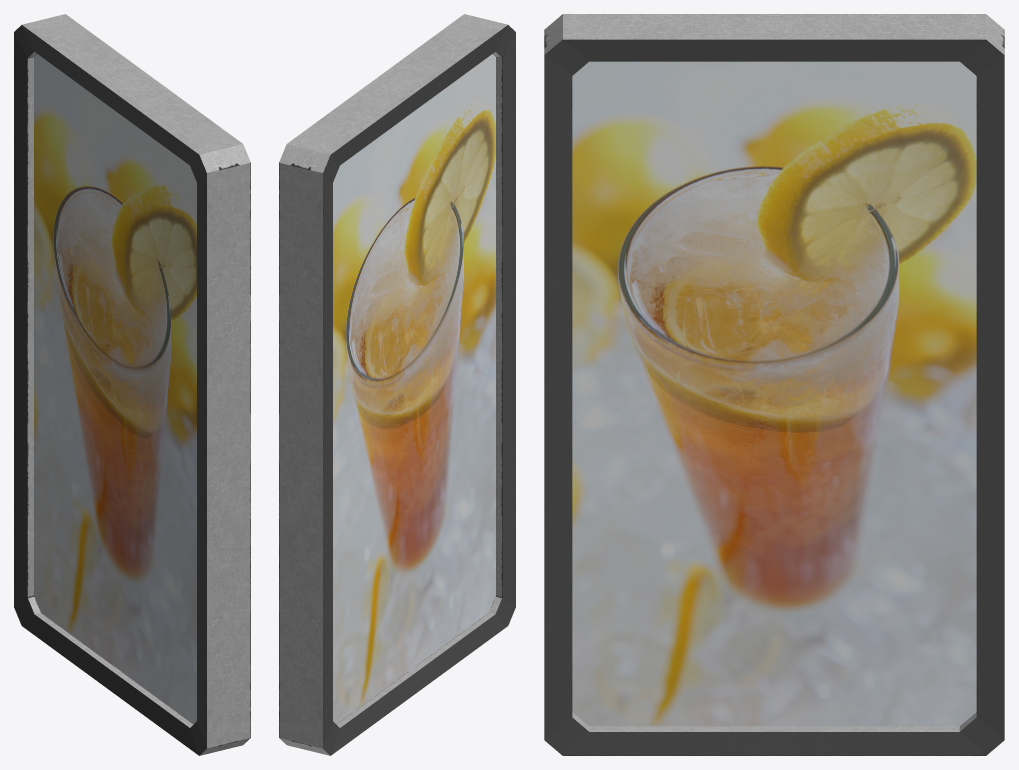
Rendered from Panel03a.FBX.
3 views of the same model, side by side, from view 1: azimuth 30°, elevation 25°; view 2: azimuth 150°, elevation 25°; view 3: azimuth 270°, elevation 25° (orthographic). The views are drawn at different scales.
Visible parts, largest first — view 1: Panel03a; view 2: Panel03a; view 3: Panel03a.
Boxes of the visible parts, box(x1,y1,x2,y2) form: Panel03a: box(14, 14, 250, 755); Panel03a: box(279, 14, 515, 755); Panel03a: box(544, 14, 1004, 755).
Bounding box in the file's own units: 138 × 1803 × 1049.
